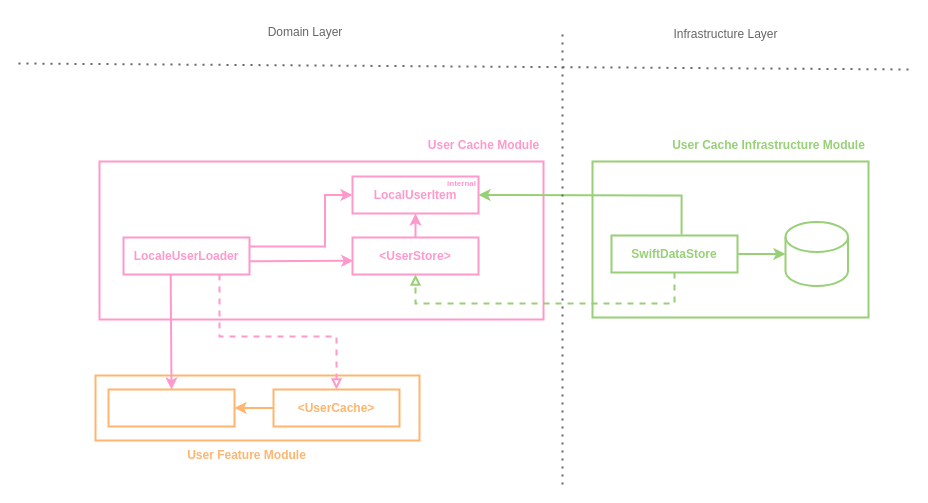
Some shapes in this 928 by 503 pixel diagram are drawn without their labels. Here are the shapes that lost their labels. From the top down, the box of each, then its label:
(784, 220, 848, 286): Database
(107, 388, 235, 427): User
